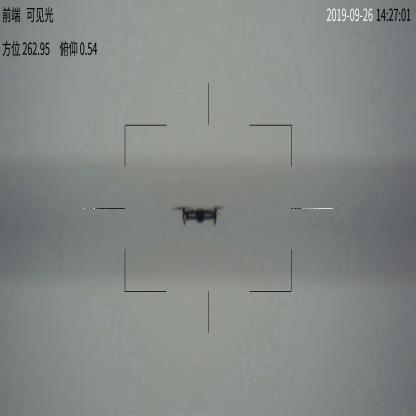uav: (170, 205, 227, 226)
